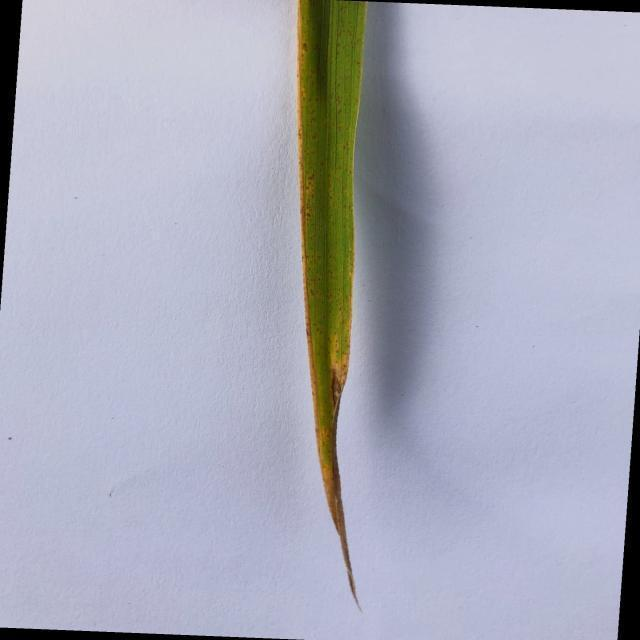Rice Tungro: (289, 0, 363, 609)
